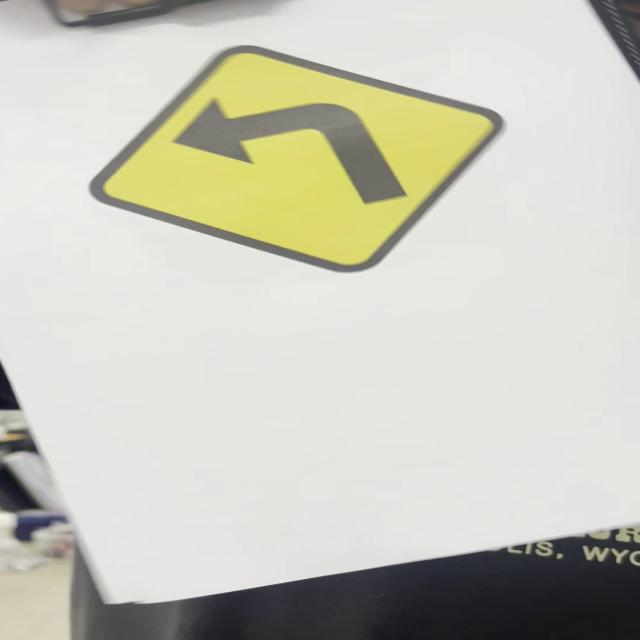left: (88, 45, 509, 273)
